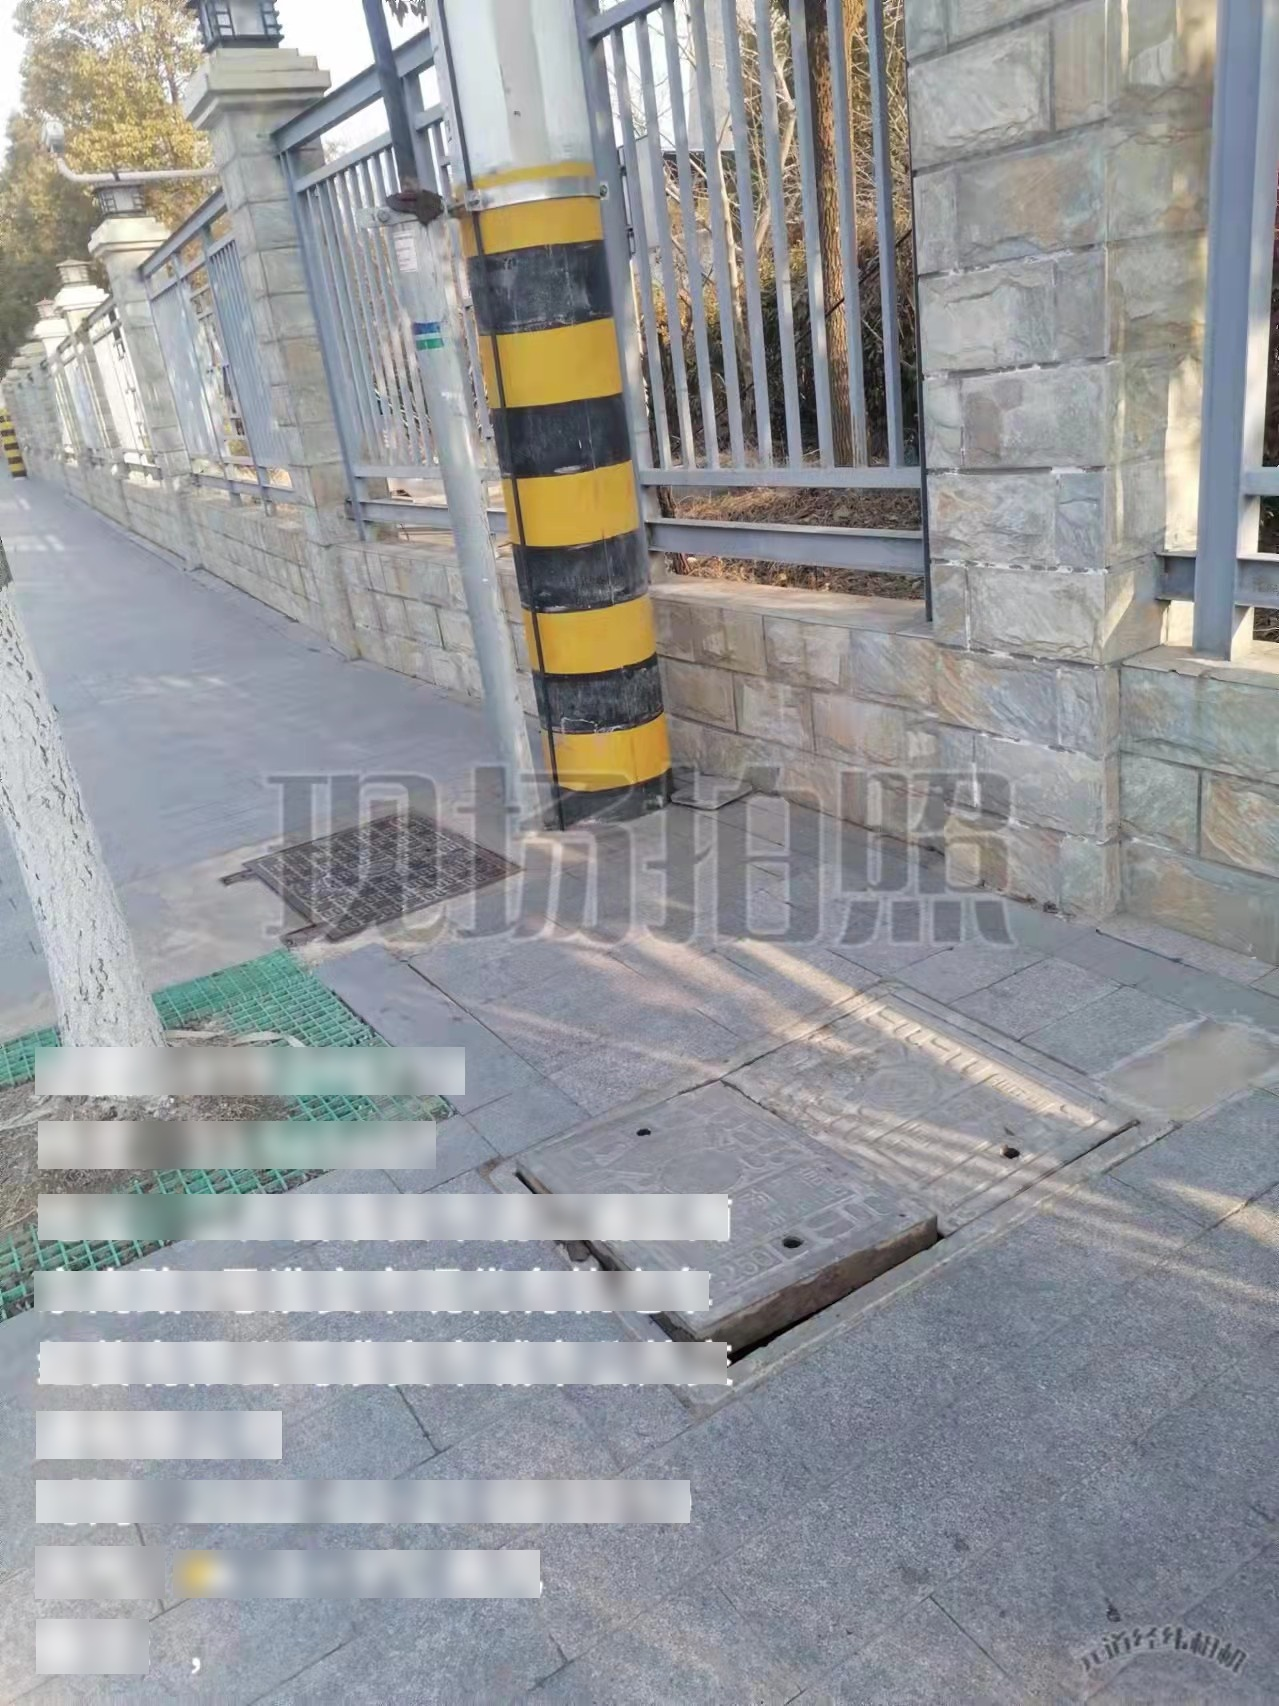well: (462, 1057, 1186, 1363)
